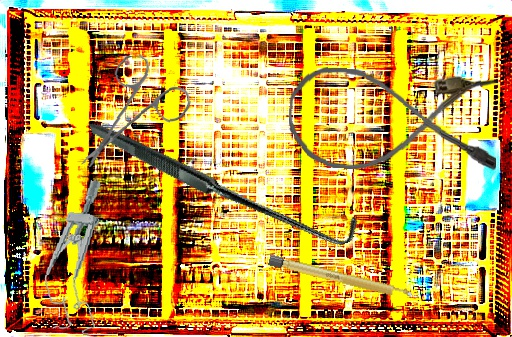Cannula: (286, 65, 501, 177)
Hook Surgical: (88, 39, 364, 321)
Iris Scissors: (73, 52, 195, 168)
Scalpel Handle: (267, 254, 414, 302)
Speculum: (38, 176, 113, 337)
